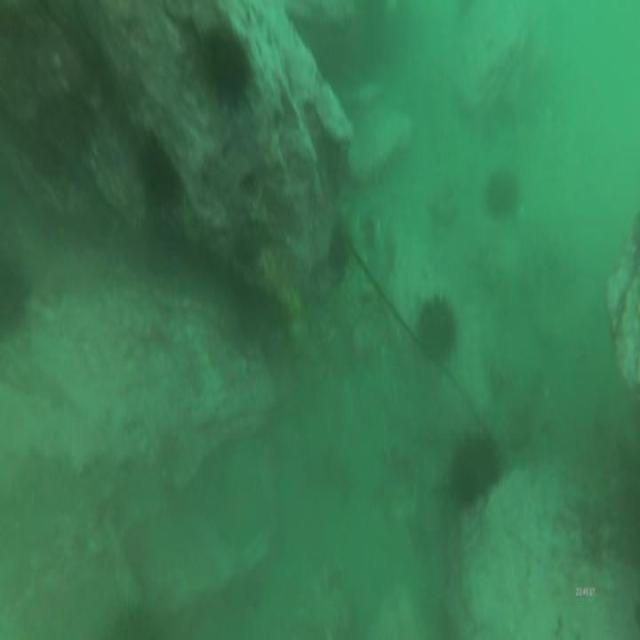echinus: (444, 425, 502, 511), (198, 25, 252, 112), (141, 128, 183, 215), (412, 291, 460, 365), (0, 256, 33, 344), (484, 163, 521, 221), (324, 215, 352, 284)
